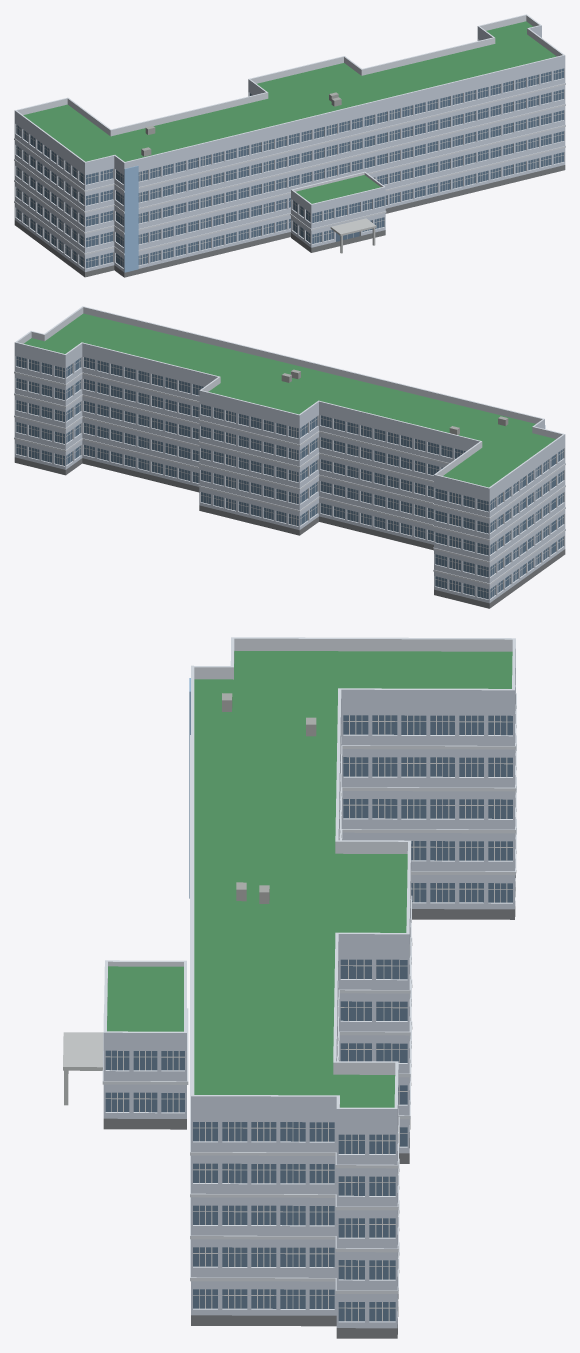
The picture shows the model from 3 angles, top to bottom: view 1: azimuth 30°, elevation 25°; view 2: azimuth 150°, elevation 25°; view 3: azimuth 270°, elevation 25°; orthographic projection. The views are drawn at different scales.
Parts seen in each view (by area): view 1: wing1__wall-plaster, wing1__glass, wing1__roof, wing1__trim-concrete, wing1__frame, wing1__base-stone, wing1__paint-band, wing1__canopy-concrete; view 2: wing1__wall-plaster, wing1__glass, wing1__roof, wing1__trim-concrete, wing1__frame, wing1__base-stone; view 3: wing1__roof, wing1__wall-plaster, wing1__glass, wing1__trim-concrete, wing1__frame, wing1__base-stone, wing1__canopy-concrete.
Part boxes in pixels (x1,y1,x2,y2): wing1__wall-plaster: (14, 25, 565, 271); wing1__glass: (16, 40, 563, 268); wing1__roof: (23, 21, 556, 203); wing1__trim-concrete: (14, 14, 565, 268); wing1__frame: (16, 69, 563, 267); wing1__base-stone: (14, 165, 565, 277); wing1__paint-band: (124, 165, 138, 272); wing1__canopy-concrete: (330, 218, 376, 253); wing1__wall-plaster: (14, 342, 565, 603); wing1__glass: (16, 356, 563, 599); wing1__roof: (24, 313, 555, 487); wing1__trim-concrete: (14, 306, 565, 599); wing1__frame: (16, 357, 563, 598); wing1__base-stone: (14, 457, 565, 608); wing1__roof: (107, 650, 512, 1107); wing1__wall-plaster: (103, 649, 515, 1328); wing1__glass: (105, 715, 512, 1321); wing1__trim-concrete: (102, 637, 516, 1322); wing1__frame: (105, 715, 512, 1321); wing1__base-stone: (103, 875, 515, 1338); wing1__canopy-concrete: (63, 1032, 103, 1105).
Bounding box in the file's own units: 87.22 × 19.75 × 35.4.
